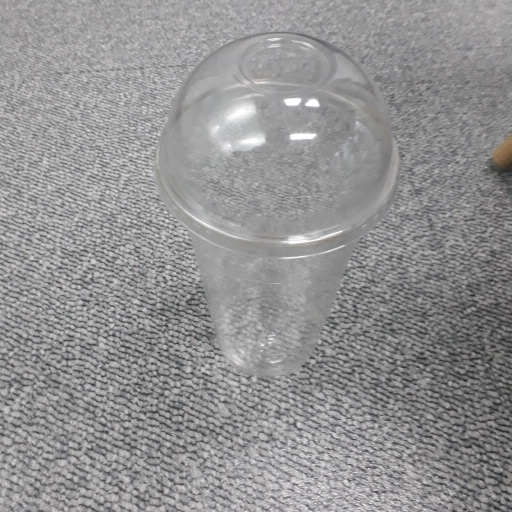Plastic_2: (155, 31, 401, 380)
